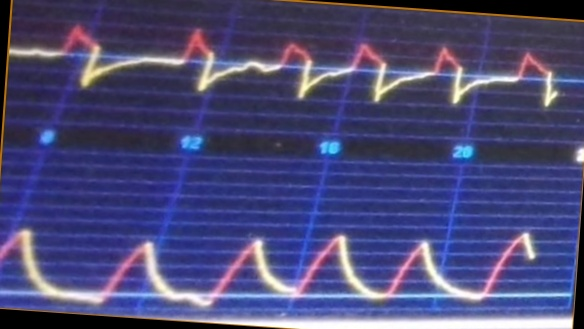Ineffective_effort Flow: (11, 22, 558, 113)
Ineffective_effort Volume: (1, 211, 538, 310)
